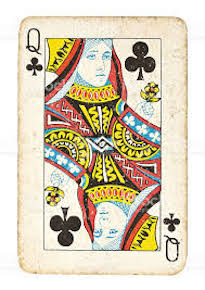QueenOfClubs: (13, 14, 190, 277)
